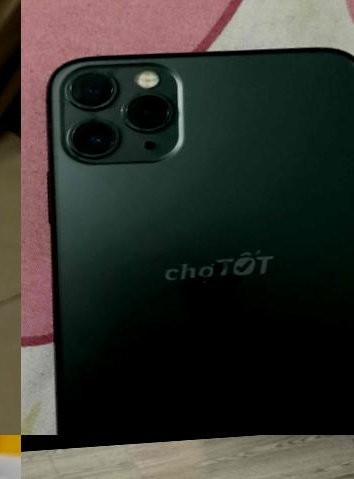scratch: (51, 59, 176, 163)
